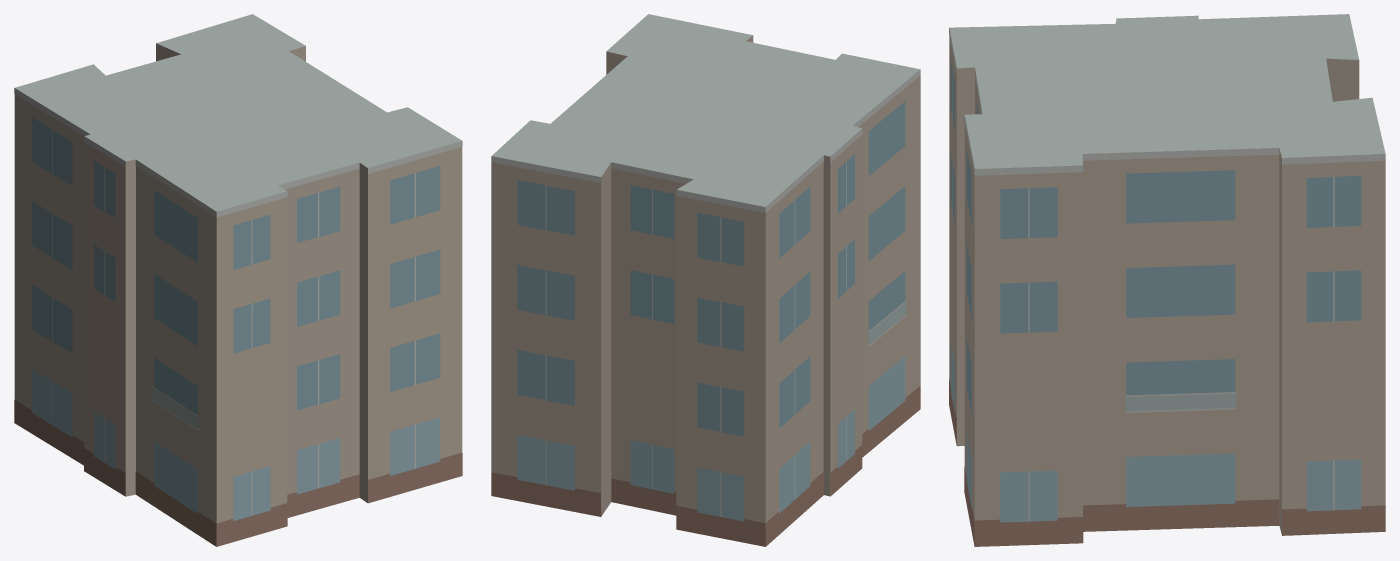
The model's file is survey-upis-32475442.glb.
3 views of the same model, side by side, from view 1: azimuth 30°, elevation 25°; view 2: azimuth 150°, elevation 25°; view 3: azimuth 270°, elevation 25° (orthographic). The views are drawn at different scales.
Parts seen in each view (by area): view 1: survey-upis-32475442.tmp; view 2: survey-upis-32475442.tmp; view 3: survey-upis-32475442.tmp.
Boxes of the visible parts, bbox=[...] form: survey-upis-32475442.tmp: bbox=[14, 14, 462, 546]; survey-upis-32475442.tmp: bbox=[491, 14, 920, 546]; survey-upis-32475442.tmp: bbox=[949, 14, 1385, 546].
Bounding box in the file's own units: 12.07 × 13.7 × 14.35.
